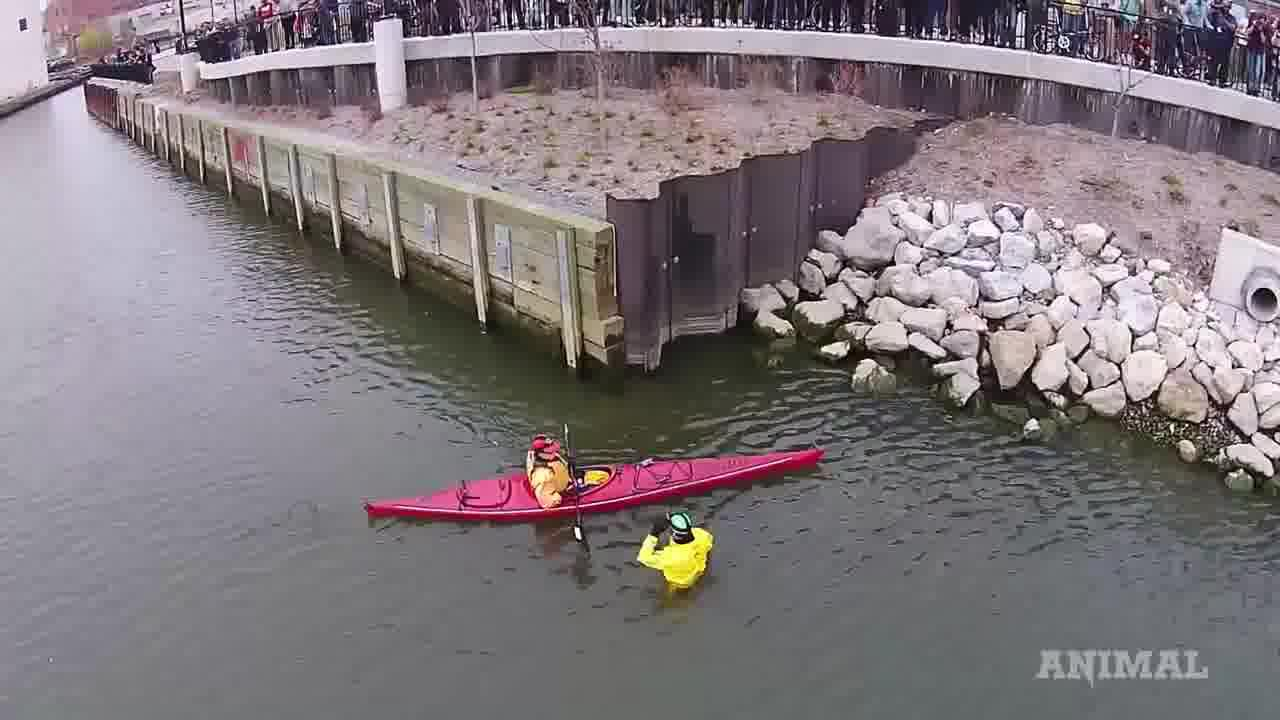swimmer: (631, 511, 721, 594)
